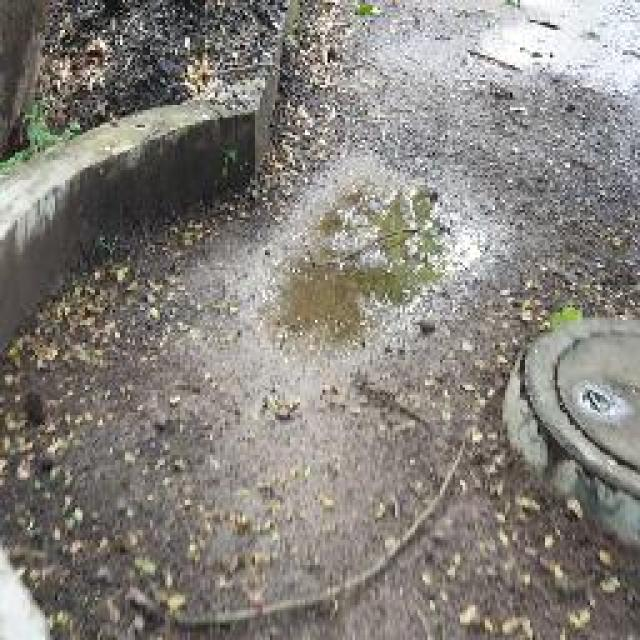waterlogging: (268, 172, 433, 334)
